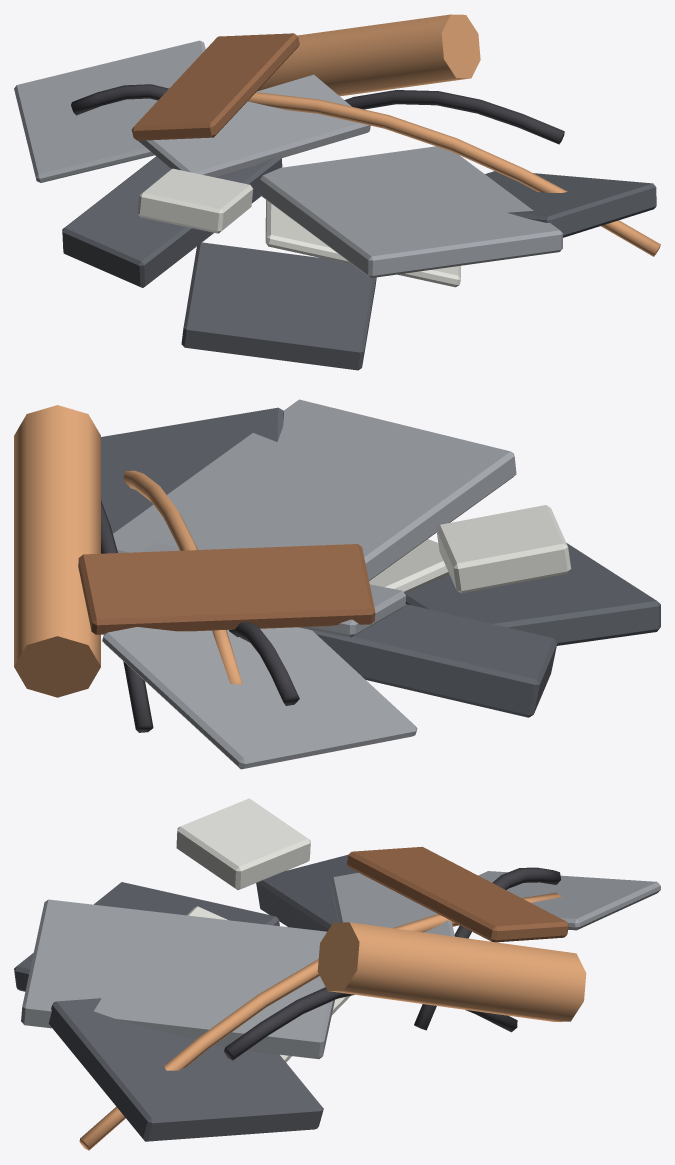
File: debris.glb
3 renders of one model, top to bottom at view 1: azimuth 30°, elevation 25°; view 2: azimuth 150°, elevation 25°; view 3: azimuth 270°, elevation 25°, orthographic. The views are drawn at different scales.
Visible parts, largest first — view 1: debris; view 2: debris; view 3: debris.
Boxes of the visible parts, x1,y1,x2,y2 form: debris: (14, 14, 660, 370); debris: (14, 399, 660, 769); debris: (14, 798, 660, 1150).
Size of the model in its own units: 2 by 0.712 by 2.09.
